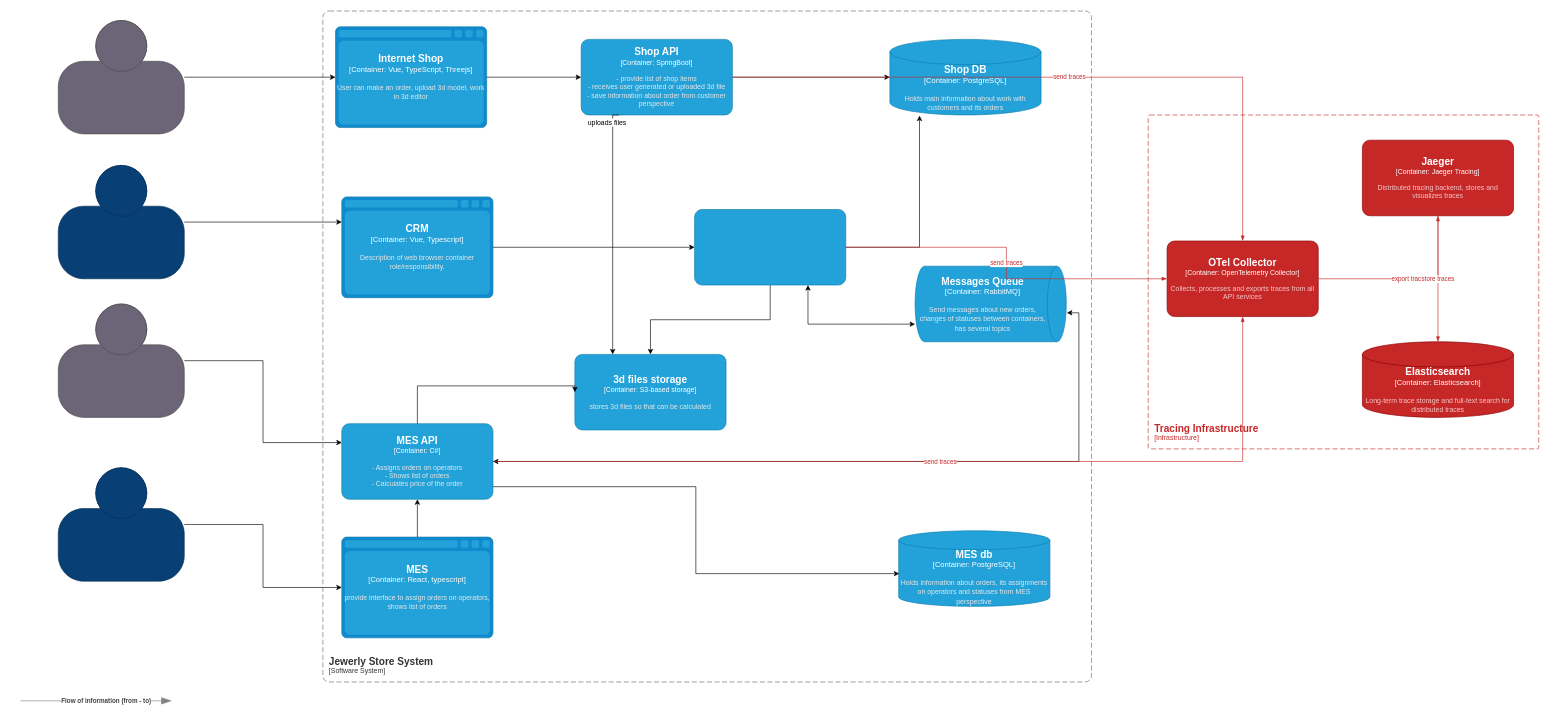
Image size: 1550x722. Some labels were removed from this diagram. Each missing label, with the centre of its shape:
API user [Person] Description of external person.: [121,360]
CRM API [Container: SpringBoot] Description of container role/responsibility.: [770,247]
Customer [Person] Description of external person.: [121,77]
Operator [Person] Takes order in work, manufactures jewerly: [121,524]
Seller [Person] Operates with order, confirms manufacturing for the user: [121,222]
